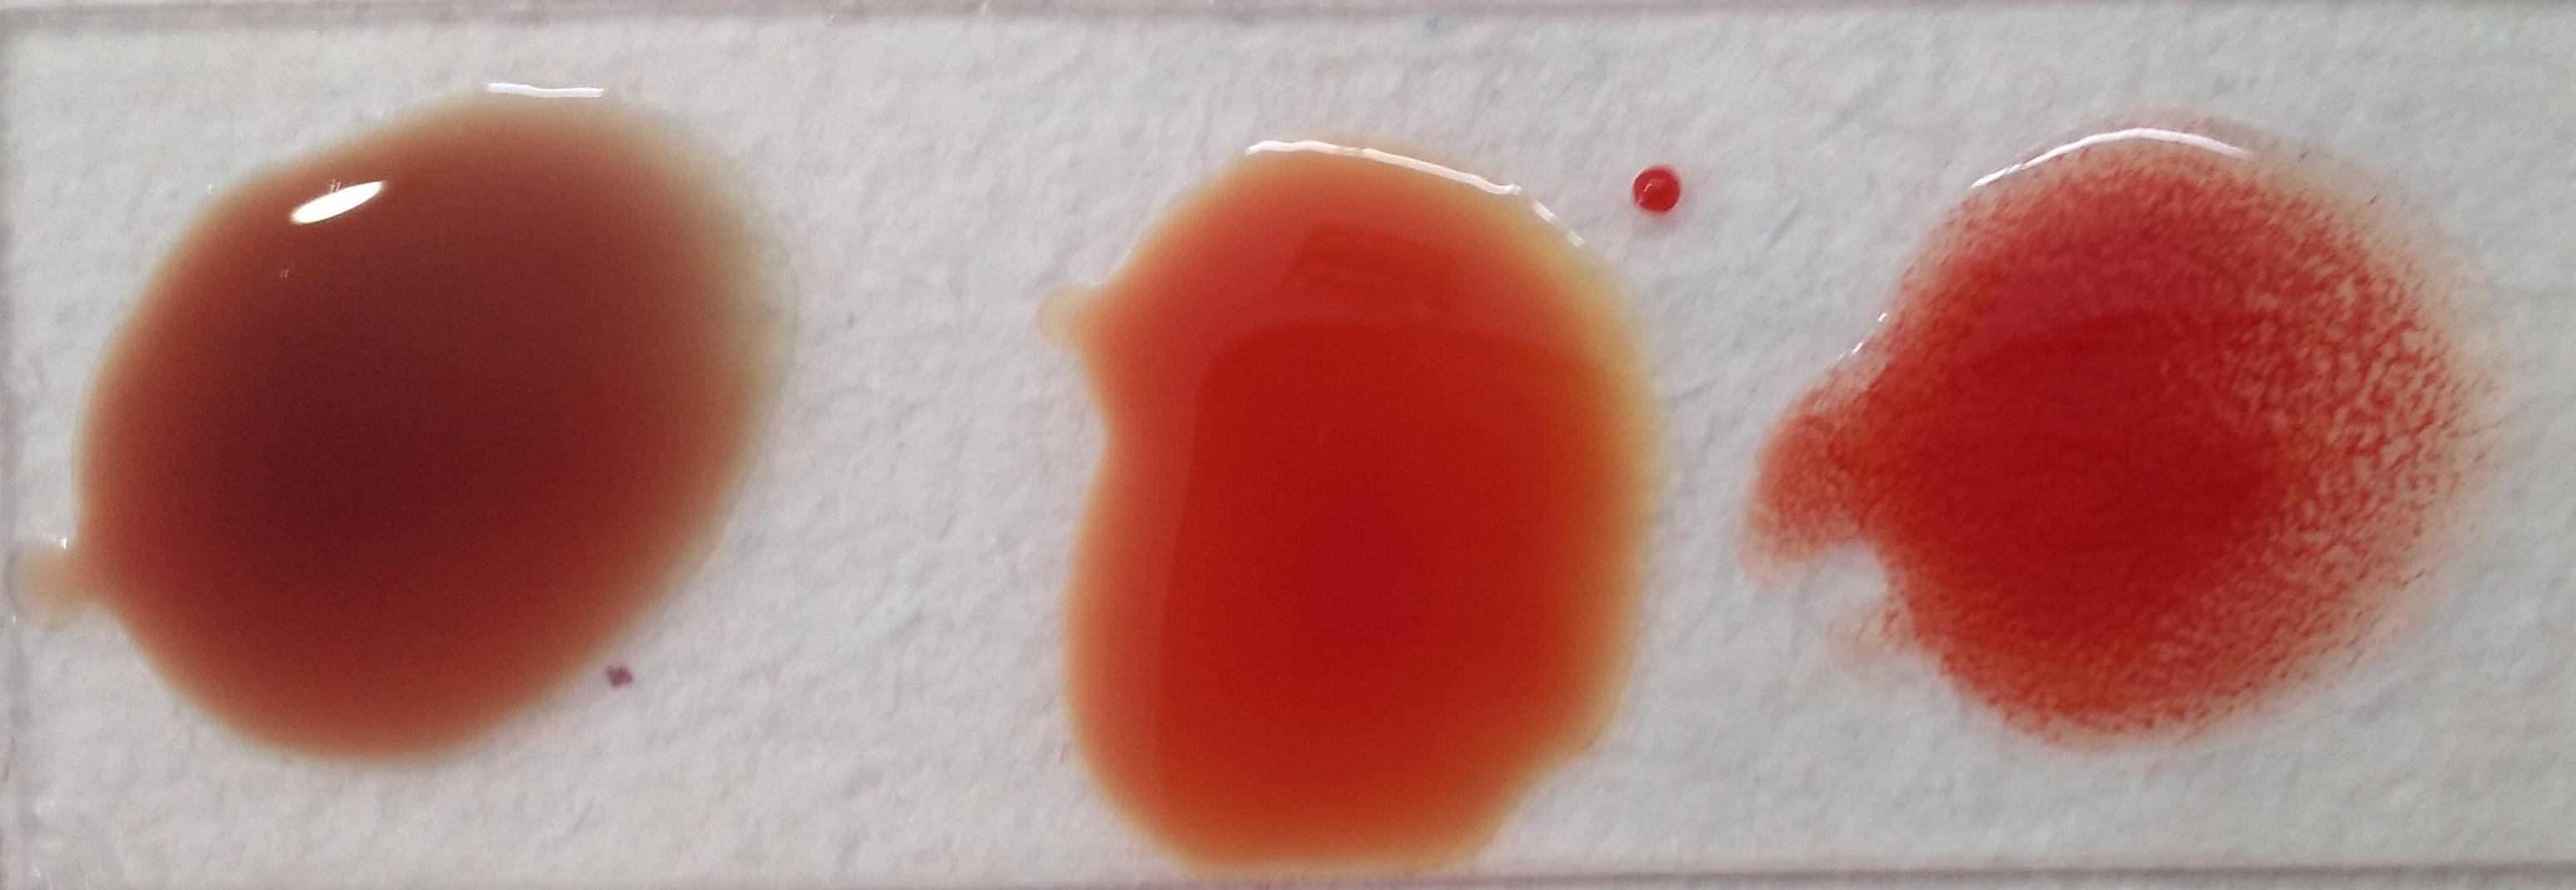D: (1884, 136, 2451, 747)
